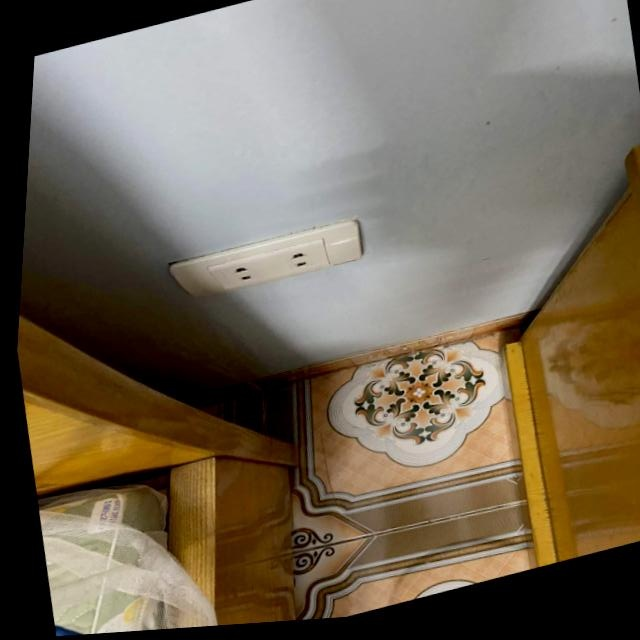outlet: (165, 215, 367, 310)
